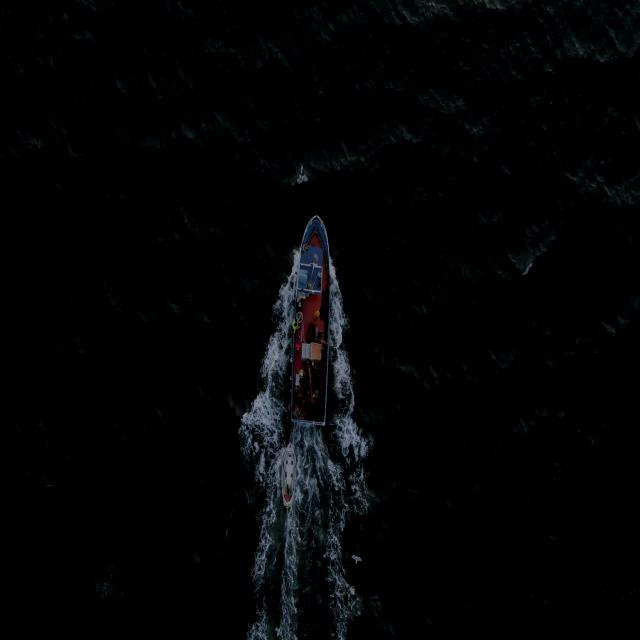ship: (284, 210, 338, 427), (279, 442, 298, 508)
